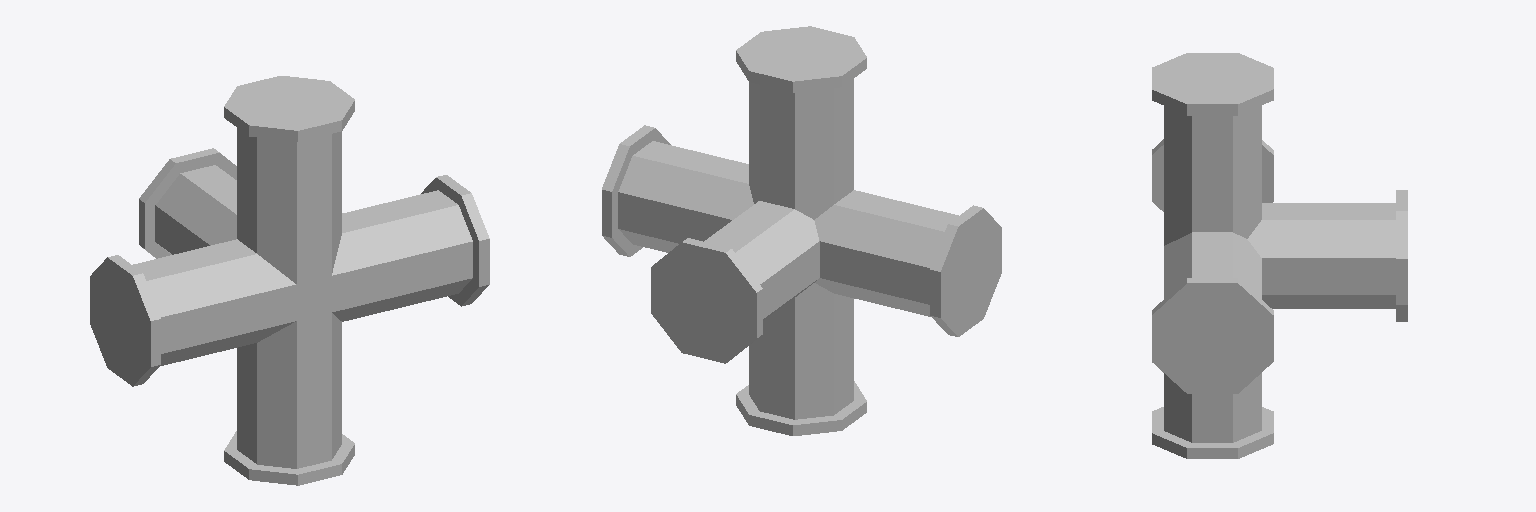
File: pipeworks_pipe_9_lowpoly.obj
The picture shows the model from 3 angles: view 1: azimuth 30°, elevation 25°; view 2: azimuth 150°, elevation 25°; view 3: azimuth 270°, elevation 25°; orthographic projection.
Parts seen in each view (by area): view 1: Cylinder.002_Cylinder.006_None.004_Cylinder.002_Cylinder.006_No; view 2: Cylinder.002_Cylinder.006_None.004_Cylinder.002_Cylinder.006_No; view 3: Cylinder.002_Cylinder.006_None.004_Cylinder.002_Cylinder.006_No.
Part boxes in pixels (left/top/right/bottom): Cylinder.002_Cylinder.006_None.004_Cylinder.002_Cylinder.006_No: left=90, top=76, right=489, bottom=485; Cylinder.002_Cylinder.006_None.004_Cylinder.002_Cylinder.006_No: left=602, top=26, right=1001, bottom=435; Cylinder.002_Cylinder.006_None.004_Cylinder.002_Cylinder.006_No: left=1152, top=53, right=1407, bottom=458.
Bounding box in the file's own units: 1 × 1 × 0.6562.